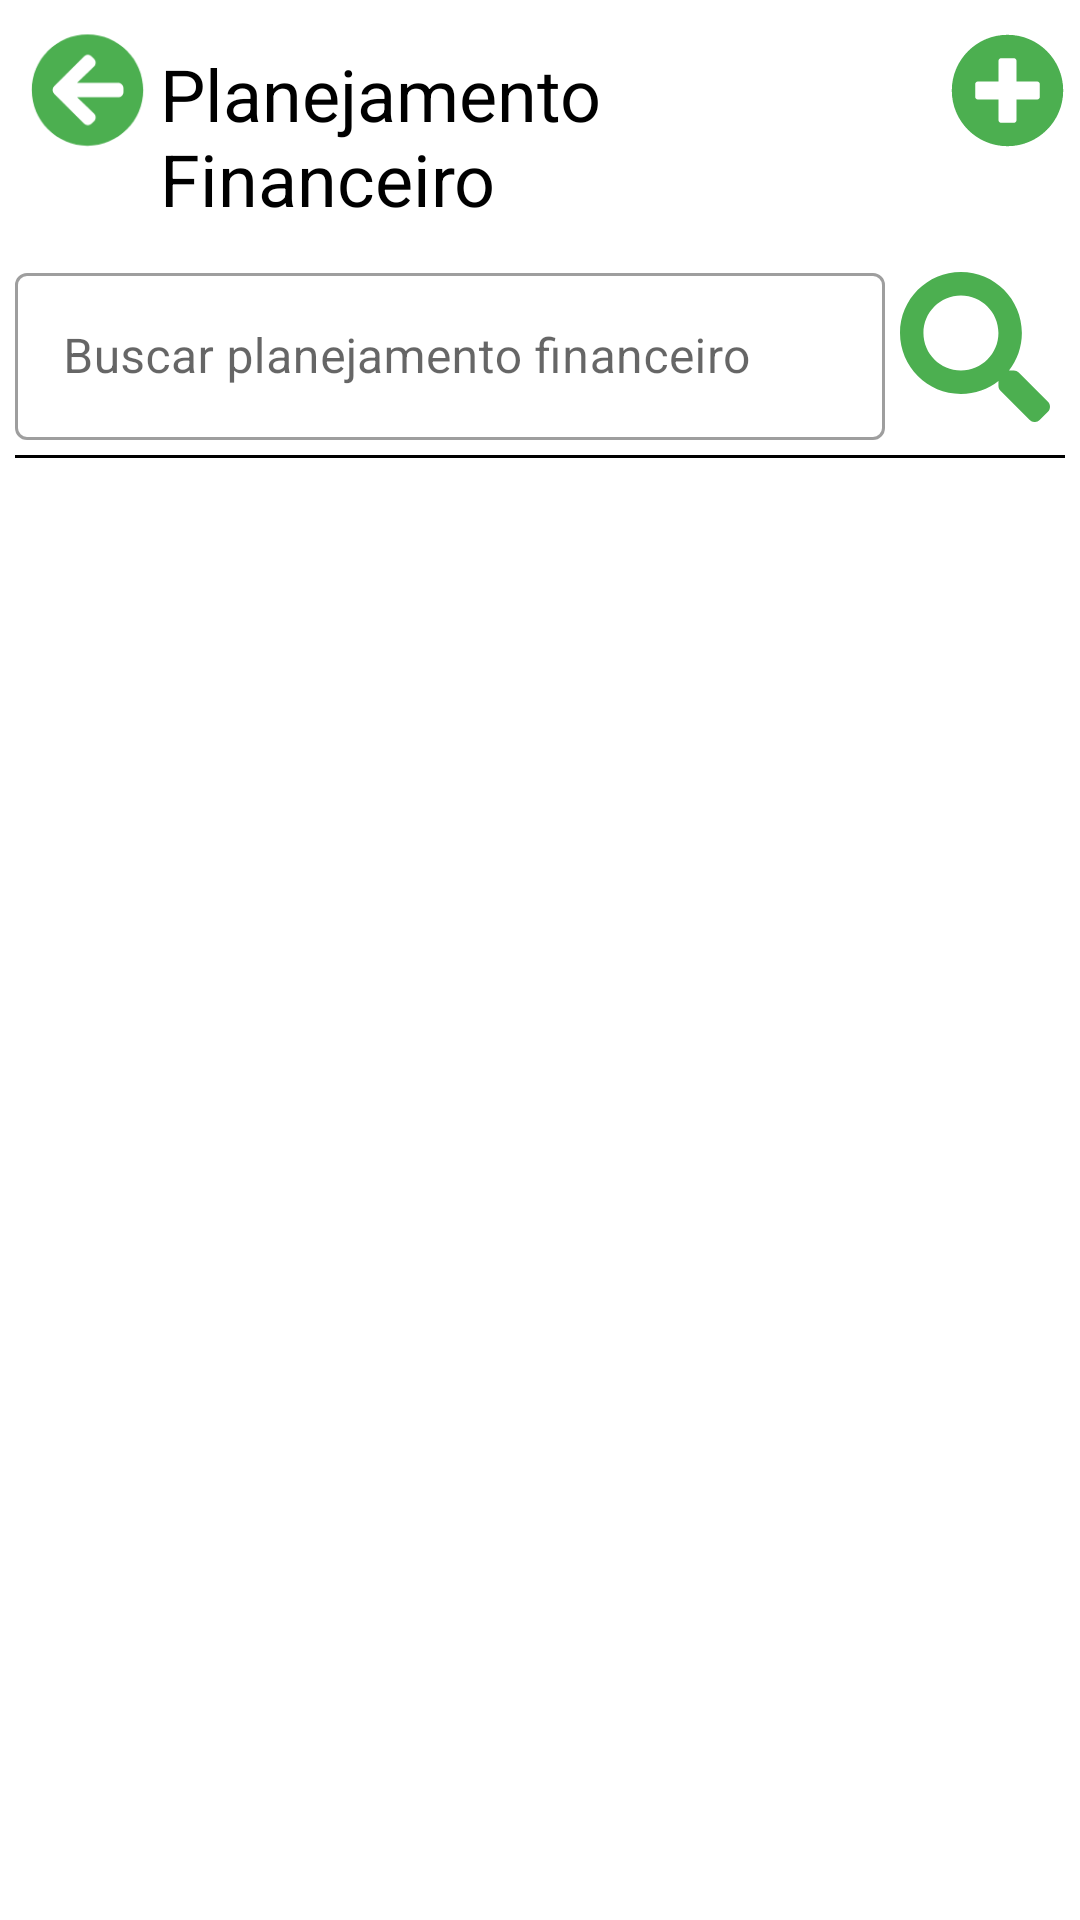

Where icons sit on this 1080px×1920px app screen, as (x1, y1, x2, y2):
add: (951, 34, 1064, 147)
voltar: (31, 34, 144, 146)
